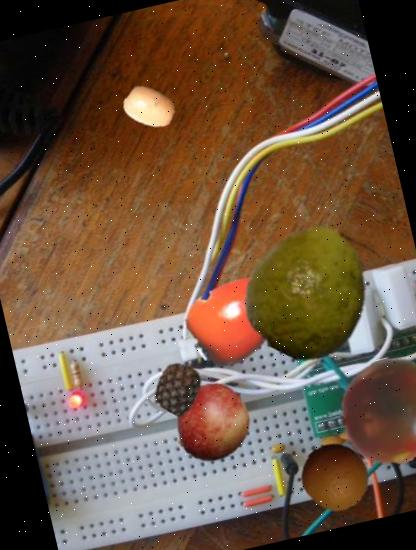Guava: (228, 208, 392, 372)
Kaki: (176, 258, 296, 379)
Kumquats: (118, 76, 180, 137)
Nectarine: (166, 376, 260, 470)
Orange: (294, 435, 376, 518)
Pineapple: (147, 358, 208, 418)
Tomato: (325, 347, 416, 474)
